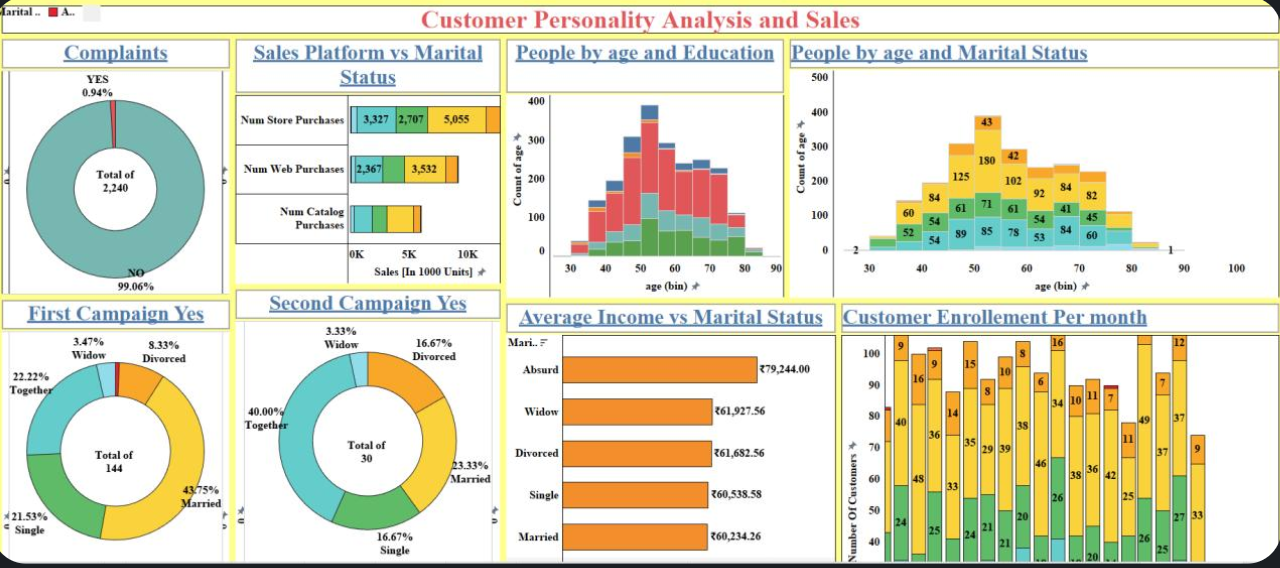

The page's visual inventory and layout, read from the dashboard file:
{"tool":"tableau","page":{"name":"Dashboard 1","canvas":[1850,1050],"ordinal":0},"visuals":[{"type":"title","box":[8,8,1834,48]},{"type":"worksheet","title":"Complaints","mark":"Pie","rows":["Calculation_931400740738146309","Calculation_931400740738146309"],"box":[8,56,334,373]},{"type":"worksheet","title":"Sales Platform","mark":"Automatic","box":[342,56,387,358]},{"type":"worksheet","title":"ppl age vs eudcation","mark":"Automatic","rows":["Calculation_931400740756779014"],"cols":["age (bin)"],"box":[729,56,405,378]},{"type":"worksheet","title":"ppl age and marital status","mark":"Automatic","rows":["Calculation_931400740756779014"],"cols":["age (bin)"],"box":[1134,56,708,378]},{"type":"worksheet","title":"2nd camp","mark":"Pie","rows":["Calculation_931400740738146309","Calculation_931400740738146309"],"box":[342,414,387,628]},{"type":"worksheet","title":"First Campaign","mark":"Pie","rows":["Calculation_931400740738146309","Calculation_931400740738146309"],"box":[8,429,334,613]},{"type":"worksheet","title":"avg income-marital","mark":"Bar","rows":["Marital_Status"],"cols":["Income"],"box":[729,434,478.7,608]},{"type":"worksheet","title":"Cust Enrollemet","mark":"Bar","rows":["ID"],"cols":["Dt_Customer"],"box":[1207.7,434,634.3,608]}]}

Visuals, with their boxes on the page's 1850x1050 design canvas (x1, y1, x2, y2). These are canvas units, not pixel positions in the 1280x568 screenshot, which may show the page scaled, cropped or inside an application window:
title: l=8, t=8, r=1842, b=56
"Complaints" worksheet (Pie marks): l=8, t=56, r=342, b=429
"Sales Platform" worksheet: l=342, t=56, r=729, b=414
"ppl age vs eudcation" worksheet: l=729, t=56, r=1134, b=434
"ppl age and marital status" worksheet: l=1134, t=56, r=1842, b=434
"2nd camp" worksheet (Pie marks): l=342, t=414, r=729, b=1042
"First Campaign" worksheet (Pie marks): l=8, t=429, r=342, b=1042
"avg income-marital" worksheet (Bar marks): l=729, t=434, r=1208, b=1042
"Cust Enrollemet" worksheet (Bar marks): l=1208, t=434, r=1842, b=1042
